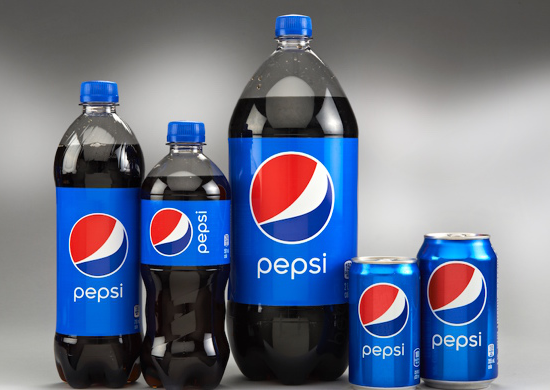pepsi: (249, 153, 332, 241), (426, 260, 485, 323), (68, 212, 126, 276), (357, 283, 406, 335), (150, 207, 190, 254)
